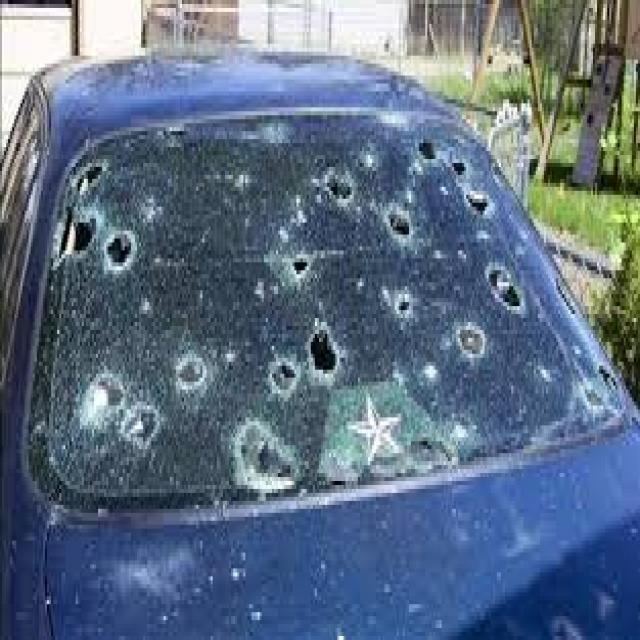moderate: (28, 100, 638, 503)
